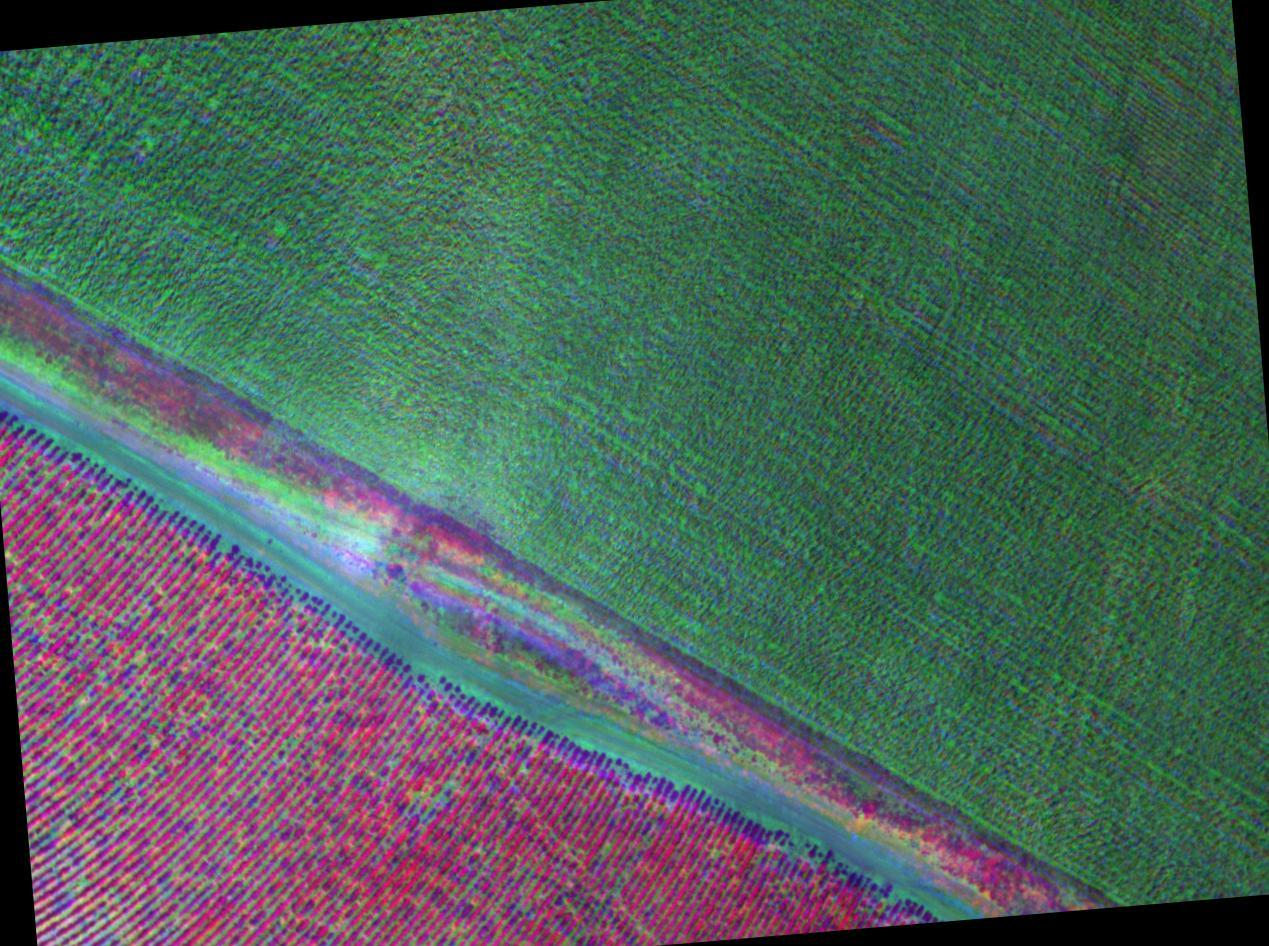dc: (200, 699, 283, 759), (394, 749, 460, 821), (64, 579, 124, 650), (69, 873, 133, 934), (49, 685, 111, 744), (0, 452, 52, 510)
